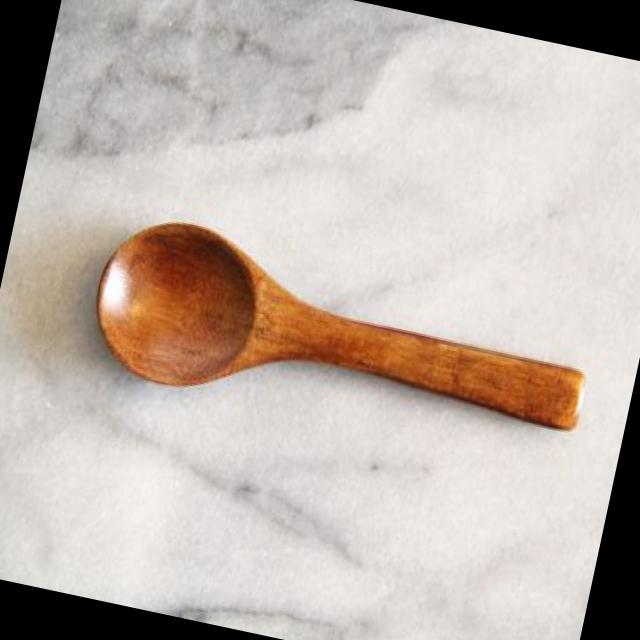spoon: (72, 192, 617, 502)
